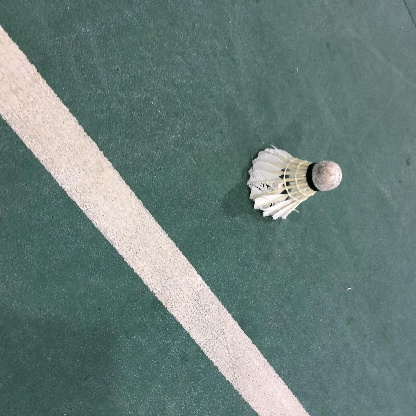ball_single: (247, 148, 342, 220)
